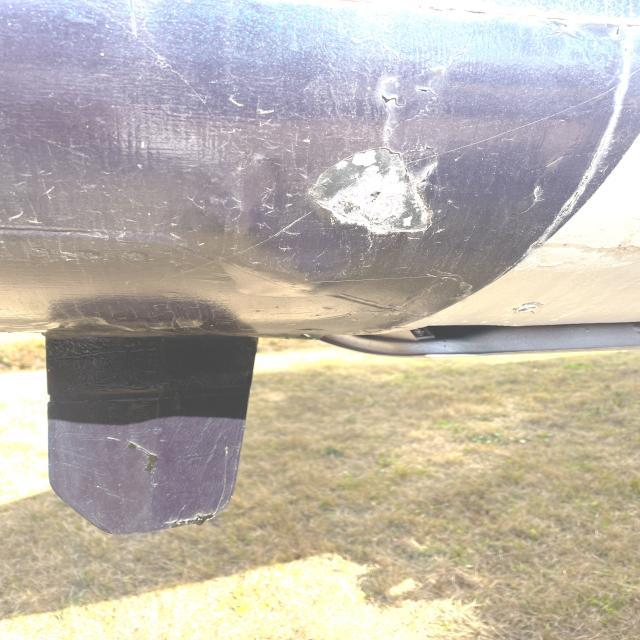crack: (381, 87, 439, 111)
dent: (287, 139, 453, 241)
